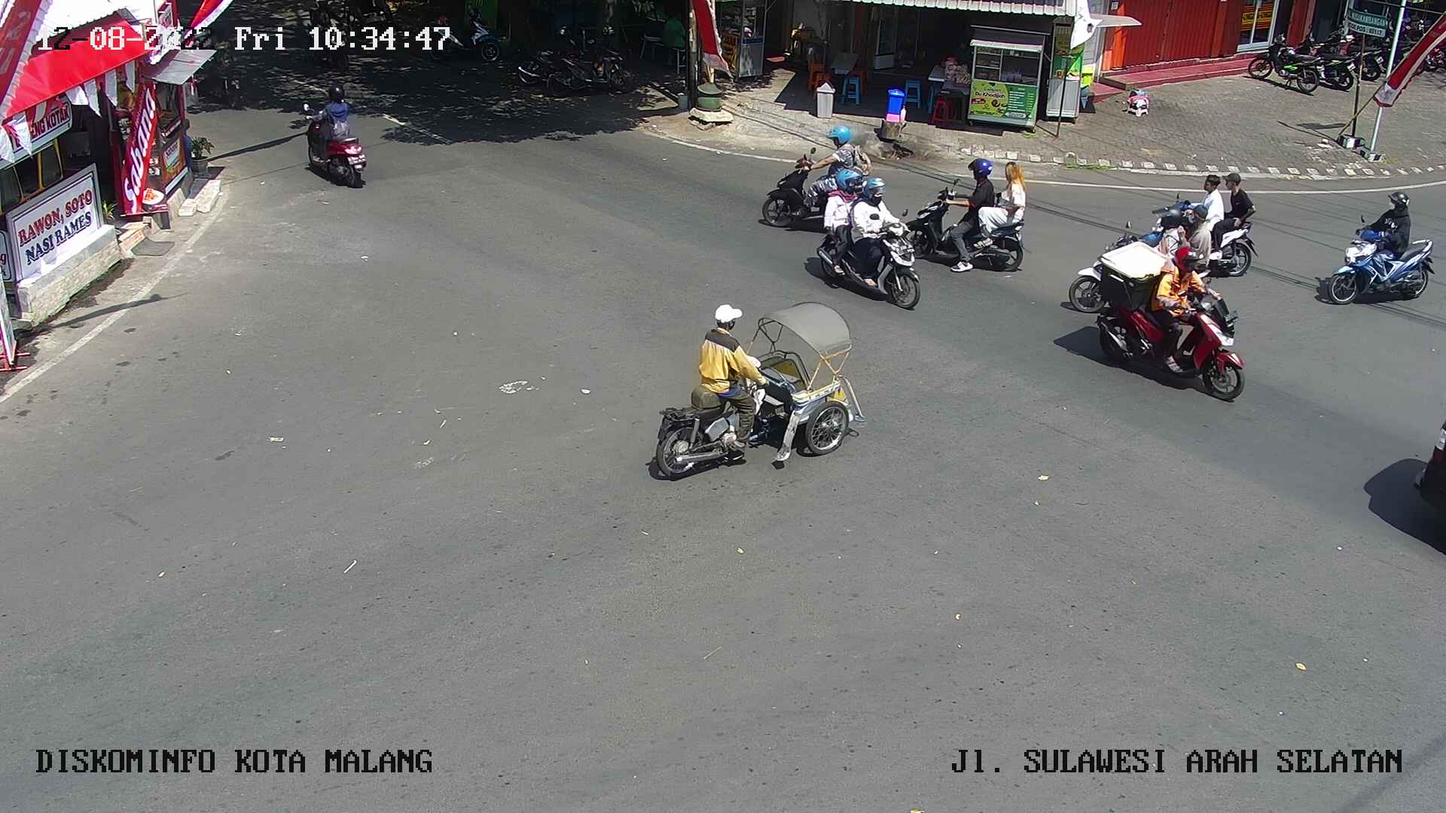with_helmet: (1093, 234, 1254, 407), (818, 168, 925, 315), (1323, 183, 1434, 305), (758, 123, 877, 229), (297, 78, 373, 194)
without_helmet: (636, 290, 874, 491), (901, 153, 1031, 279), (1072, 206, 1215, 290), (1147, 177, 1265, 278)
